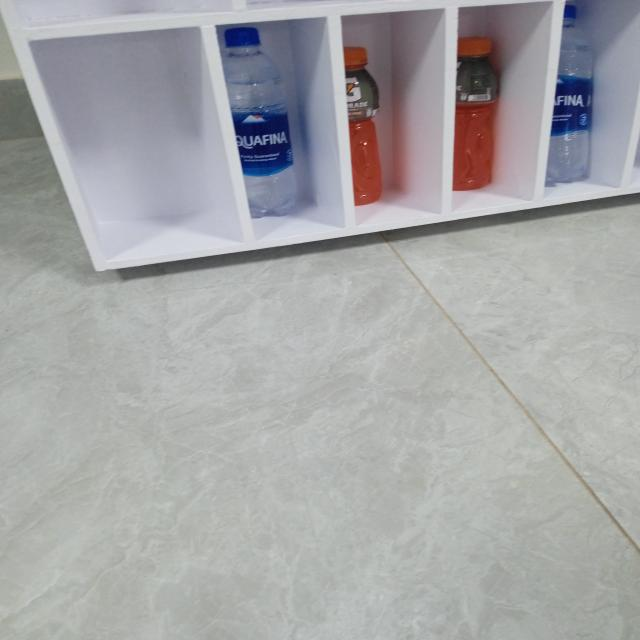Plastic: (224, 29, 304, 216), (546, 6, 602, 186), (458, 36, 498, 186), (348, 48, 379, 204)
